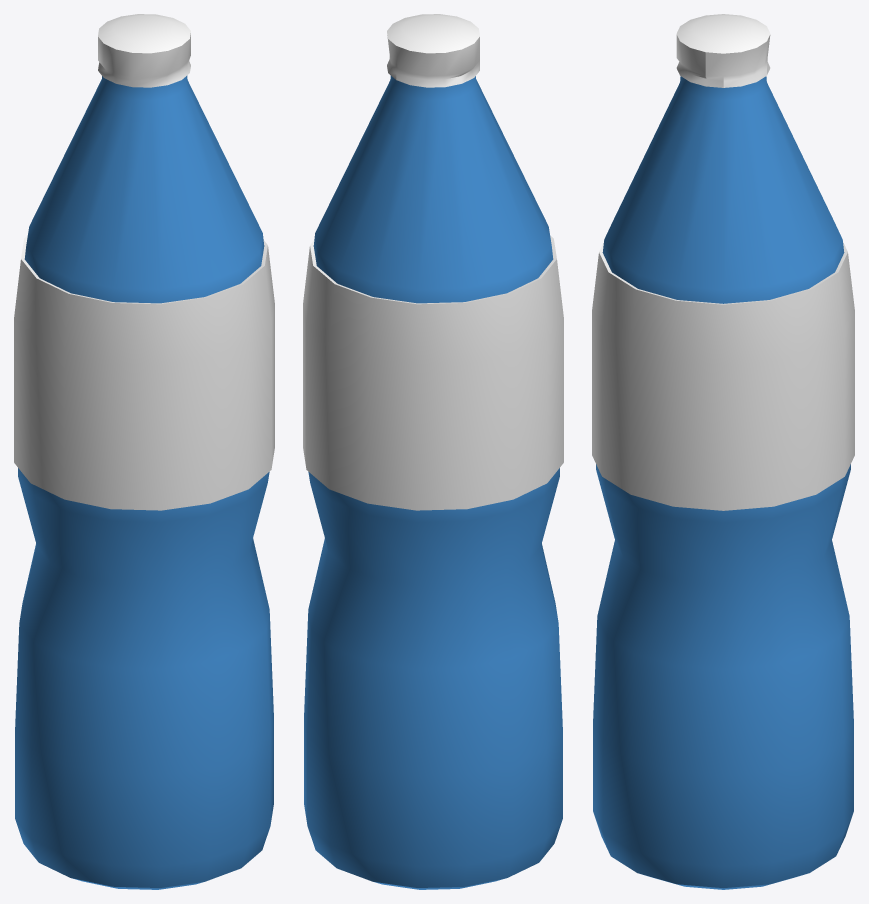
File: waterbottleCTF.fbx
3 renders of one model, left to right at view 1: azimuth 30°, elevation 25°; view 2: azimuth 150°, elevation 25°; view 3: azimuth 270°, elevation 25°, orthographic.
Visible parts, largest first — view 1: Cylinder.001; view 2: Cylinder.001; view 3: Cylinder.001.
Boxes of the visible parts, x1,y1,x2,y2 form: Cylinder.001: [14, 14, 274, 889]; Cylinder.001: [303, 14, 563, 889]; Cylinder.001: [592, 14, 854, 889].
Bounding box in the file's own units: 7.46 × 25.61 × 7.46.
